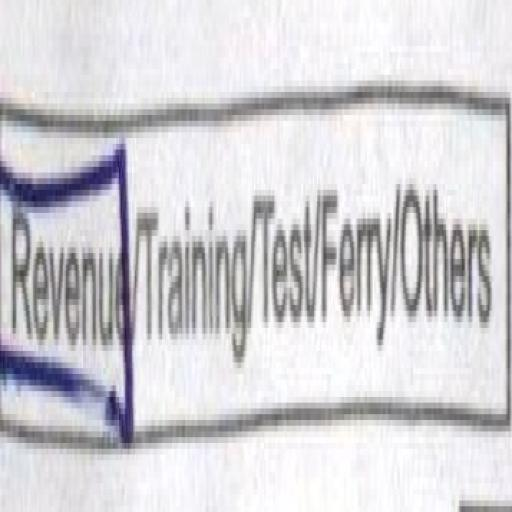check: (0, 109, 138, 512)
